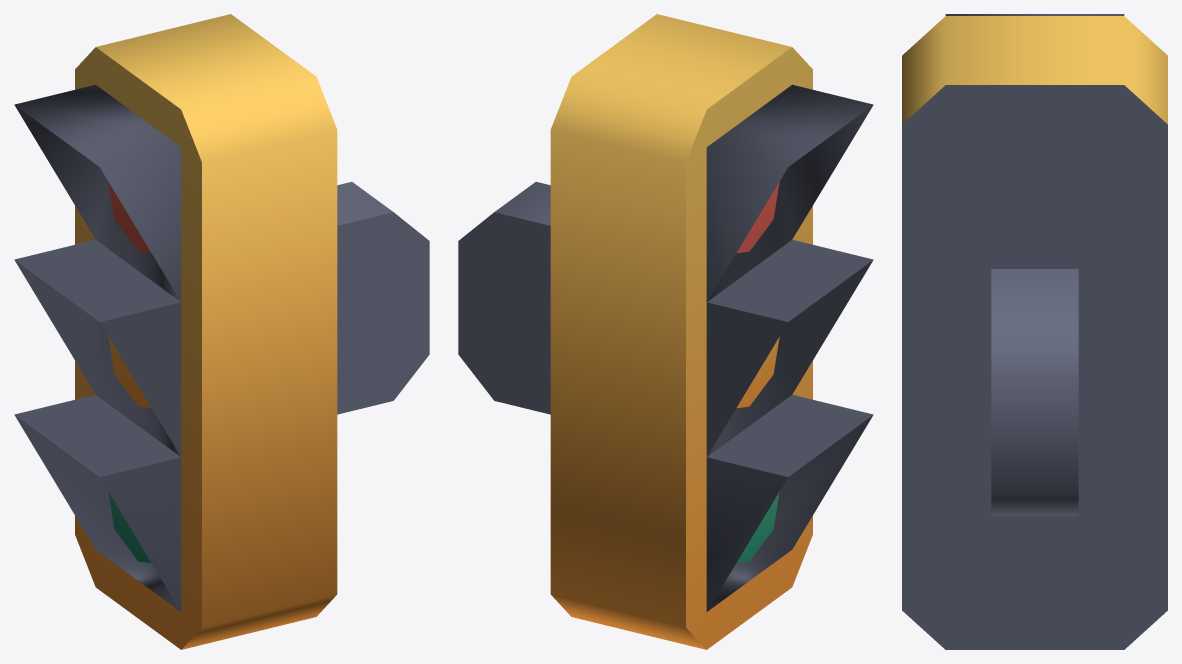
File: traffic-light-object-hanging.glb
The picture shows the model from 3 angles, left to right: view 1: azimuth 30°, elevation 25°; view 2: azimuth 150°, elevation 25°; view 3: azimuth 270°, elevation 25°; orthographic projection. The views are drawn at different scales.
Visible parts, largest first — view 1: traffic-light-object-hanging; view 2: traffic-light-object-hanging; view 3: traffic-light-object-hanging.
Boxes of the visible parts, x1,y1,x2,y2 form: traffic-light-object-hanging: (14, 14, 429, 649); traffic-light-object-hanging: (458, 14, 873, 649); traffic-light-object-hanging: (902, 14, 1167, 649).
Bounding box in the file's own units: 0.0976 × 0.1432 × 0.0611.
Materials: 1 (1 with a texture image).
